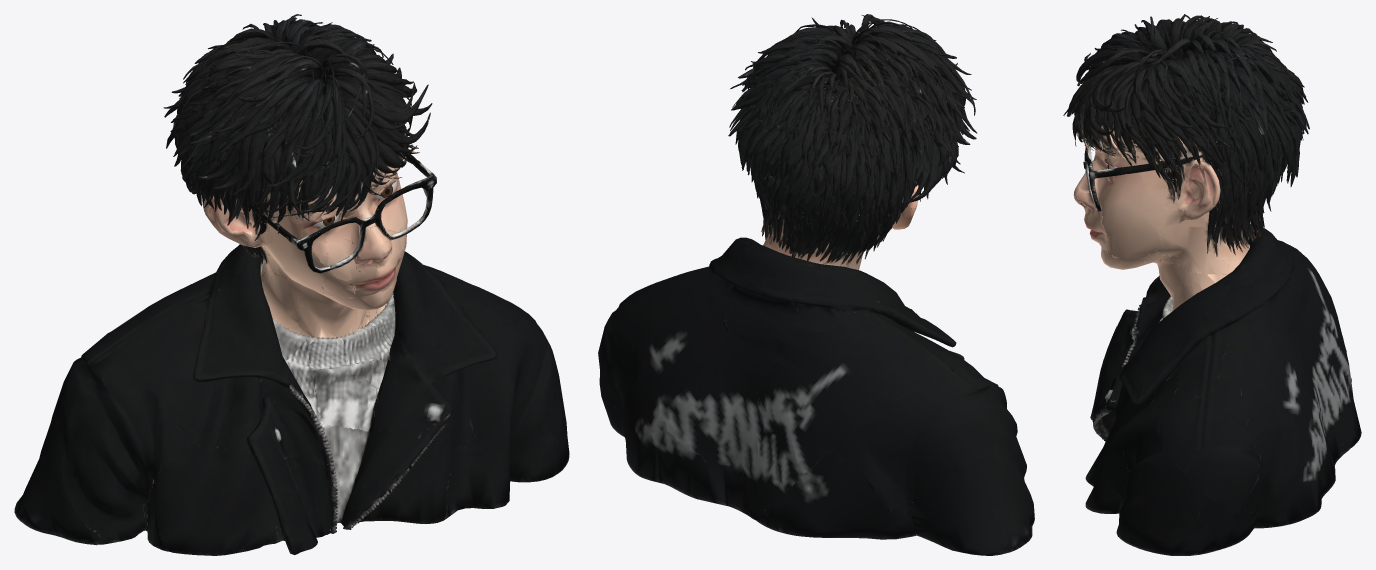
Rendered from yangyangzi-55a382b26f81.glb.
The picture shows the model from 3 angles, left to right: view 1: azimuth 30°, elevation 25°; view 2: azimuth 150°, elevation 25°; view 3: azimuth 270°, elevation 25°; orthographic projection. The views are drawn at different scales.
Parts seen in each view (by area): view 1: Body_Textured; view 2: Body_Textured; view 3: Body_Textured.
Boxes of the visible parts, x1,y1,x2,y2 form: Body_Textured: (14, 14, 569, 555); Body_Textured: (598, 14, 1034, 555); Body_Textured: (1063, 14, 1361, 555).
Size of the model in its own units: 1.9 by 1.74 by 1.12.
Materials: 12 (1 with a texture image).
